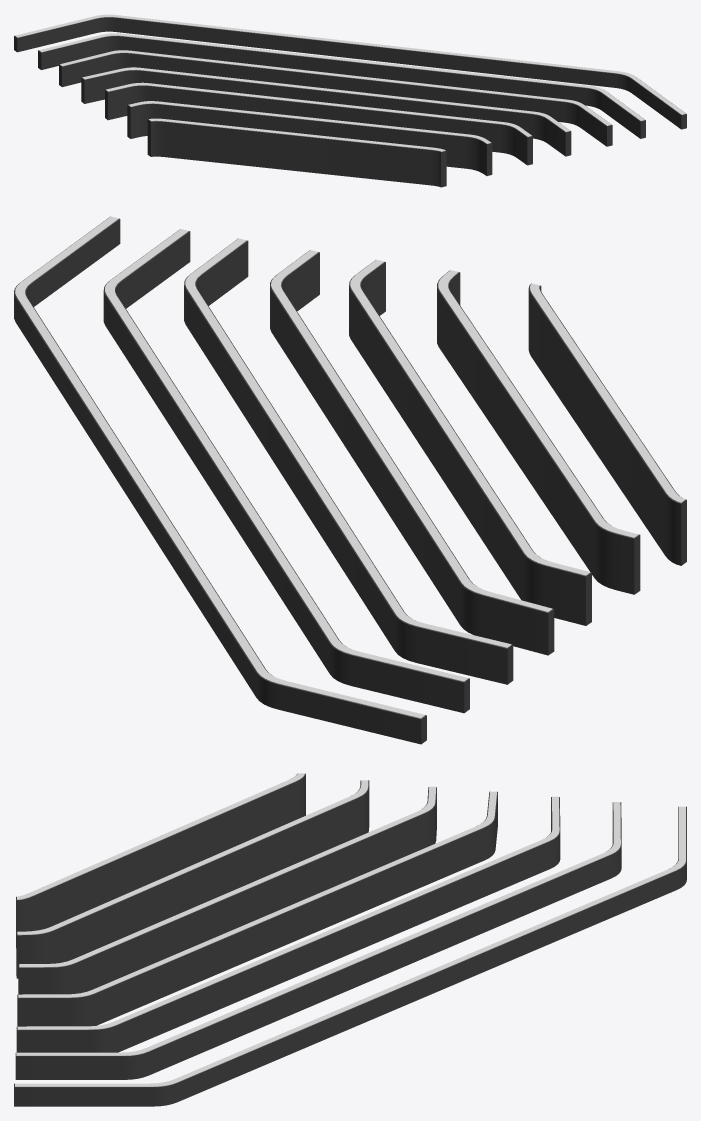
The model's file is MOb_Booth_001_CL_a.fbx.
3 views of the same model, one above another, from view 1: azimuth 30°, elevation 25°; view 2: azimuth 150°, elevation 25°; view 3: azimuth 270°, elevation 25° (orthographic). The views are drawn at different scales.
Visible parts, largest first — view 1: MOb_Booth_001_CL_a; view 2: MOb_Booth_001_CL_a; view 3: MOb_Booth_001_CL_a.
Boxes of the visible parts, x1,y1,x2,y2 form: MOb_Booth_001_CL_a: (14, 14, 686, 187); MOb_Booth_001_CL_a: (14, 216, 686, 744); MOb_Booth_001_CL_a: (14, 773, 686, 1106).
Bounding box in the file's own units: 22.98 × 1.81 × 22.91.
